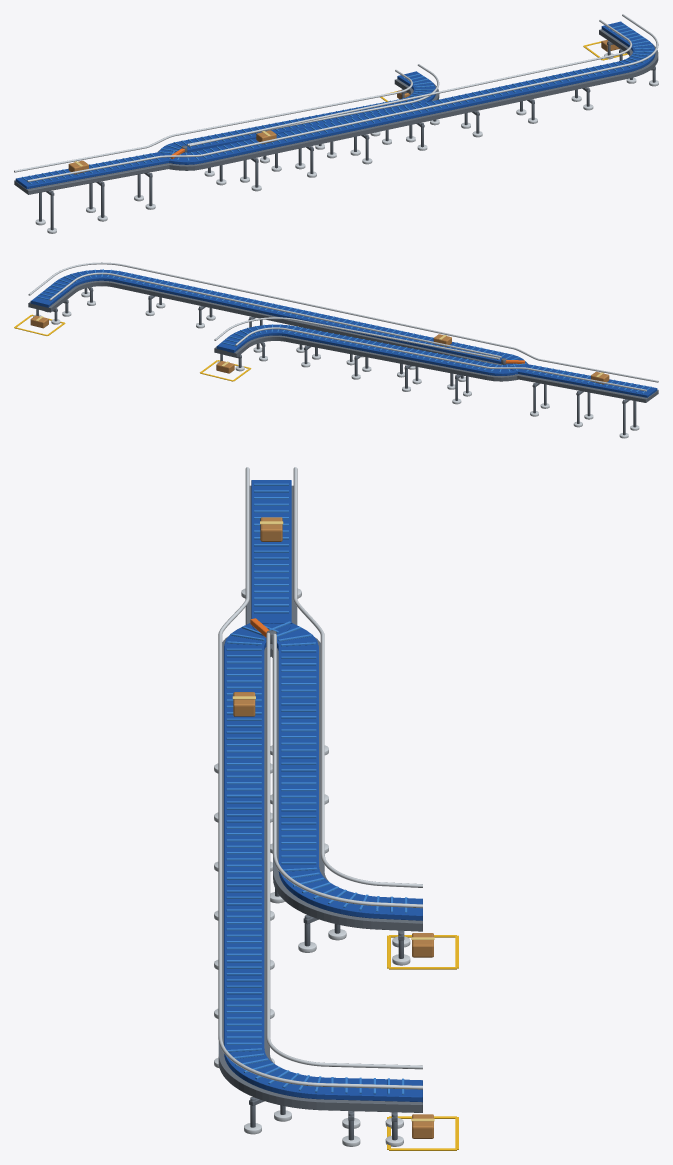
The model's file is conveyor_unity.fbx.
The picture shows the model from 3 angles, top to bottom: view 1: azimuth 30°, elevation 25°; view 2: azimuth 150°, elevation 25°; view 3: azimuth 270°, elevation 25°; orthographic projection. The views are drawn at different scales.
Visible parts, largest first — view 1: Lane_B_Belt, Lane_B_Frame, Lane_A_Belt, Feed_Belt, Lane_B_Rail_Right, Lane_B_Rail_Left, Feed_Frame, Lane_A_Rail_Left, Lane_A_Rail_Right, Feed_Rail_Left, Feed_Rail_Right; view 2: Lane_B_Belt, Lane_A_Belt, Lane_B_Frame, Lane_A_Frame, Lane_B_Rail_Right, Feed_Belt, Lane_B_Rail_Left, Feed_Frame, Lane_A_Rail_Right, Lane_A_Rail_Left, Feed_Rail_Left, Feed_Rail_Right; view 3: Lane_B_Belt, Lane_A_Belt, Lane_B_Frame, Feed_Belt, Lane_B_Rail_Right, Lane_A_Frame, Lane_B_Rail_Left, Lane_A_Rail_Right, Lane_A_Rail_Left, Feed_Frame.
Boxes of the visible parts, x1,y1,x2,y2 form: Lane_B_Belt: (162, 21, 655, 164); Lane_B_Frame: (169, 29, 658, 170); Lane_A_Belt: (159, 71, 435, 159); Feed_Belt: (15, 152, 170, 188); Lane_B_Rail_Right: (202, 14, 658, 156); Lane_B_Rail_Left: (188, 19, 632, 146); Feed_Frame: (14, 163, 172, 194); Lane_A_Rail_Left: (174, 69, 412, 135); Lane_A_Rail_Right: (187, 64, 439, 145); Feed_Rail_Left: (14, 146, 145, 172); Feed_Rail_Right: (27, 156, 158, 182); Lane_B_Belt: (30, 269, 527, 370); Lane_A_Belt: (216, 324, 522, 375); Lane_B_Frame: (28, 280, 528, 365); Lane_A_Frame: (214, 335, 517, 381); Lane_B_Rail_Right: (28, 262, 512, 348); Feed_Belt: (516, 364, 657, 397); Lane_B_Rail_Left: (49, 272, 501, 357); Feed_Frame: (514, 374, 658, 402); Lane_A_Rail_Right: (214, 317, 499, 359); Lane_A_Rail_Left: (235, 327, 487, 368); Feed_Rail_Left: (527, 367, 646, 391); Feed_Rail_Right: (539, 359, 658, 382); Lane_B_Belt: (224, 623, 422, 1102); Lane_A_Belt: (252, 623, 422, 920); Lane_B_Frame: (218, 637, 422, 1112); Feed_Belt: (251, 480, 292, 623); Lane_B_Rail_Right: (218, 632, 422, 1089); Lane_A_Frame: (271, 637, 422, 931); Lane_B_Rail_Left: (266, 632, 422, 1069); Lane_A_Rail_Right: (272, 634, 422, 908); Lane_A_Rail_Left: (320, 634, 422, 887); Feed_Frame: (245, 485, 297, 624).
Bounding box in the file's own units: 2709 × 232 × 485.
